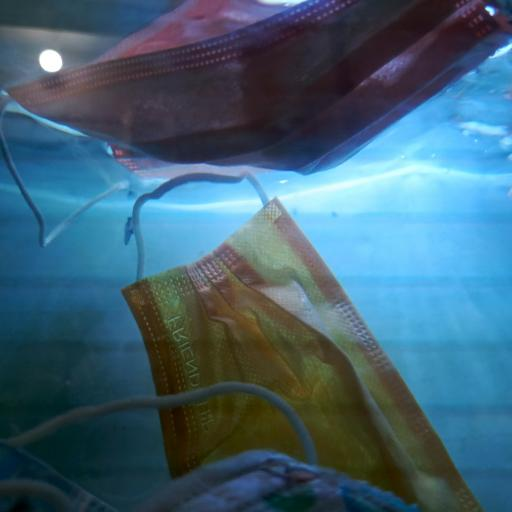mask: (117, 169, 485, 512), (0, 0, 512, 246), (0, 379, 420, 512)
